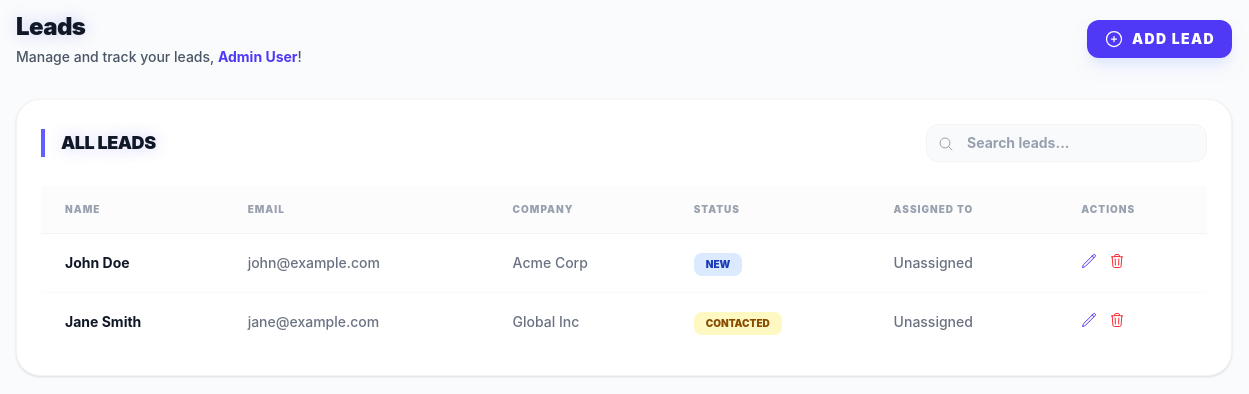
Scenario: Leads Component › filters leads based on search input
Expected: the text "John Doe" is shown, [41,234,224,292]
Type "Jane" into the field with placeholder "Search leads...".
click(1066, 143); type("Jane")  # box [926,124,1207,162]
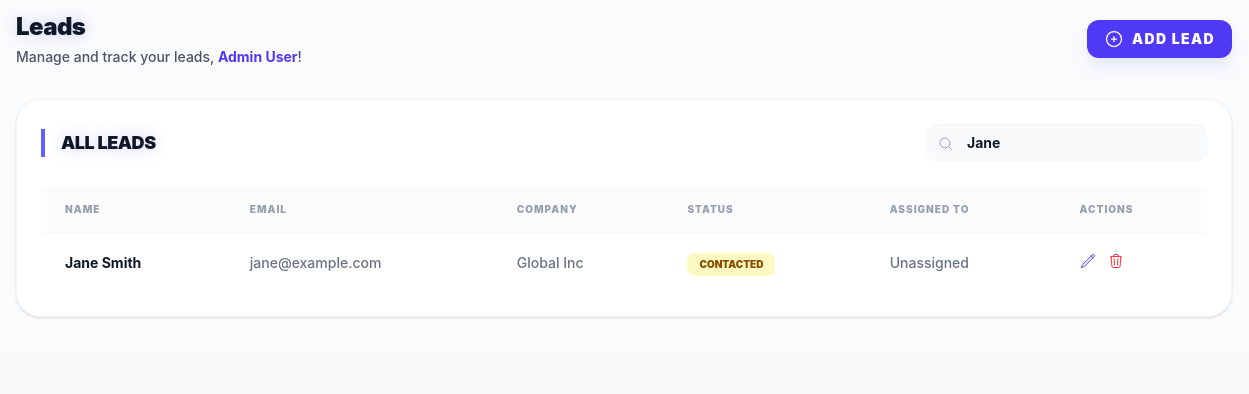
Expected: the text "Jane Smith" is shown, [41,234,226,292]
Expected: the text "John Doe" is gone
